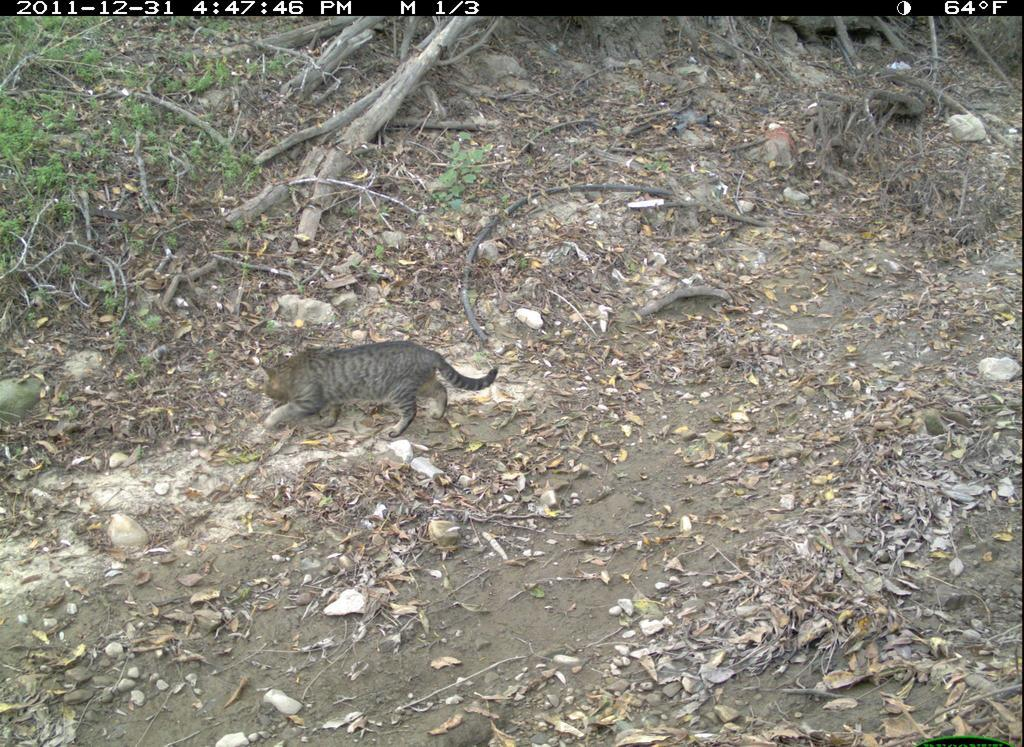cat: (237, 308, 513, 474)
